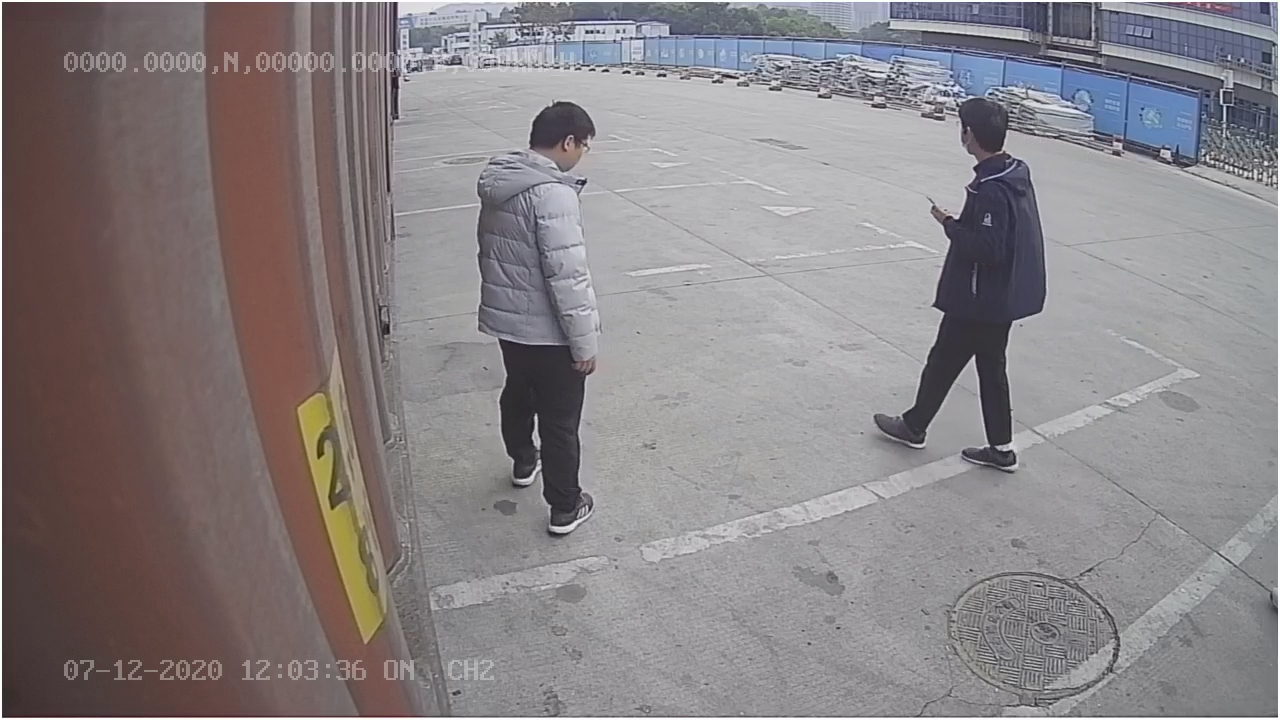person: (871, 92, 1046, 476), (459, 95, 610, 531)
